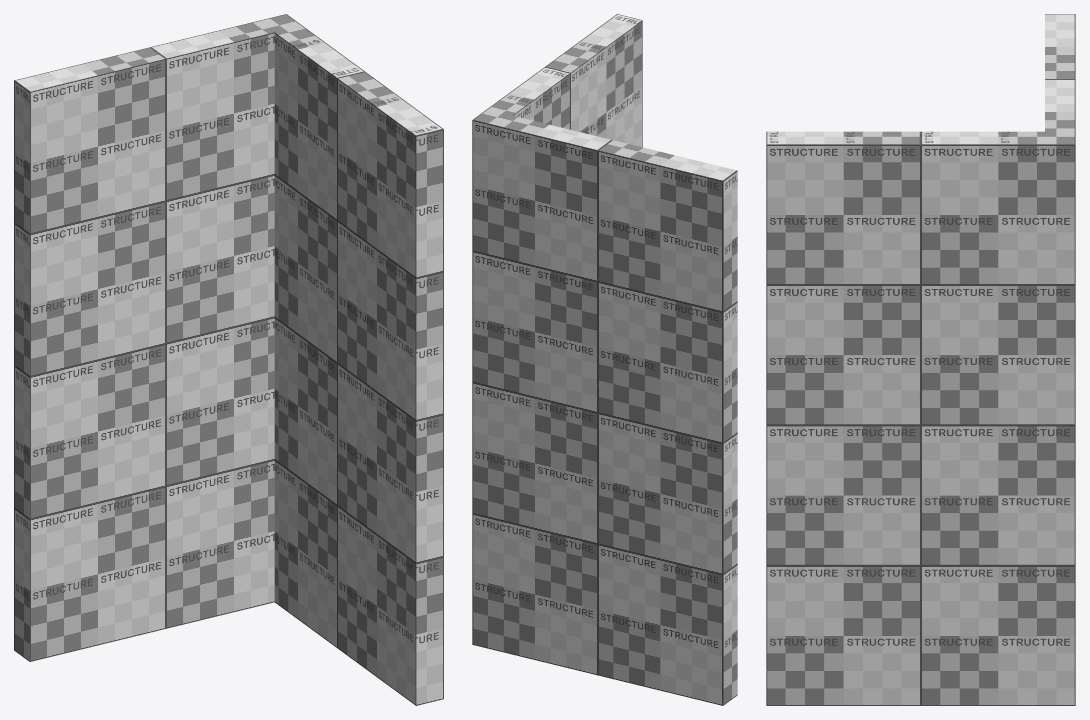
Rendered from Corner_2x2.fbx.
3 views of the same model, side by side, from view 1: azimuth 30°, elevation 25°; view 2: azimuth 150°, elevation 25°; view 3: azimuth 270°, elevation 25° (orthographic). The views are drawn at different scales.
Parts seen in each view (by area): view 1: Corner_2x2; view 2: Corner_2x2; view 3: Corner_2x2.
Part boxes in pixels (x1,y1,x2,y2): Corner_2x2: (14, 14, 443, 705); Corner_2x2: (472, 14, 737, 705); Corner_2x2: (766, 14, 1075, 705).
Bounding box in the file's own units: 200 × 400 × 200.
